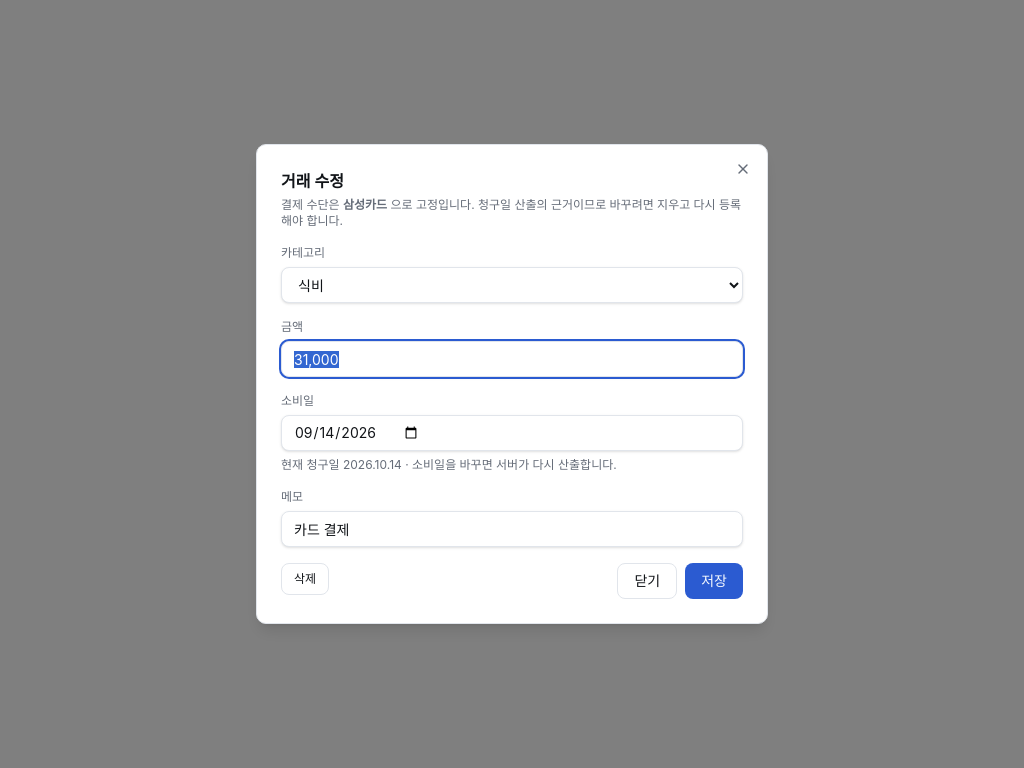
Test: TransactionEditDialog - 거래 수정·삭제 › 삭제 확인을 취소할 수 있다
Click the button "삭제".
click(305, 579)  # box [281,563,329,595]
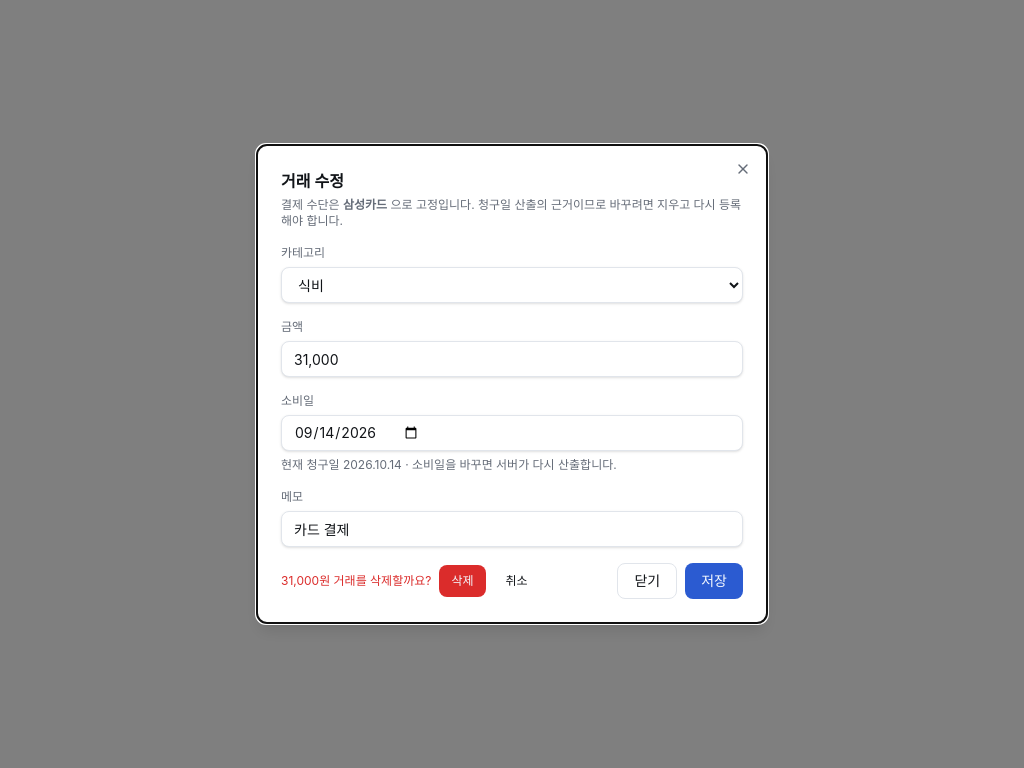
Click the button "취소".
click(517, 581)  # box [494,565,540,597]
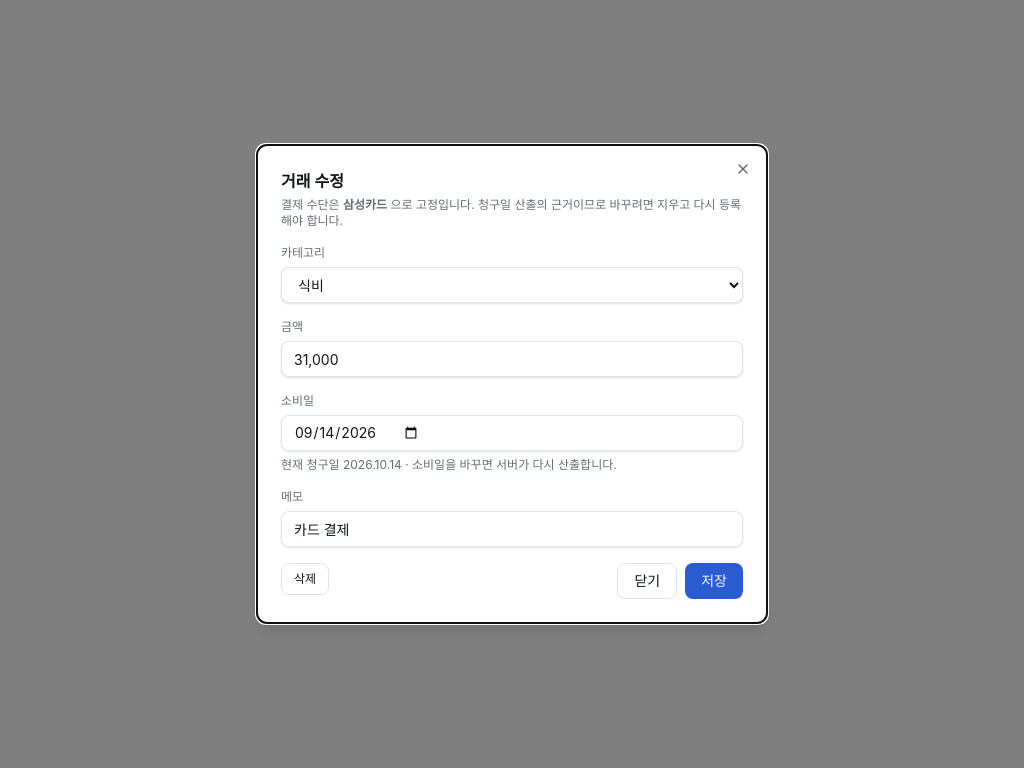
Check: the text "삭제할까요" is gone
